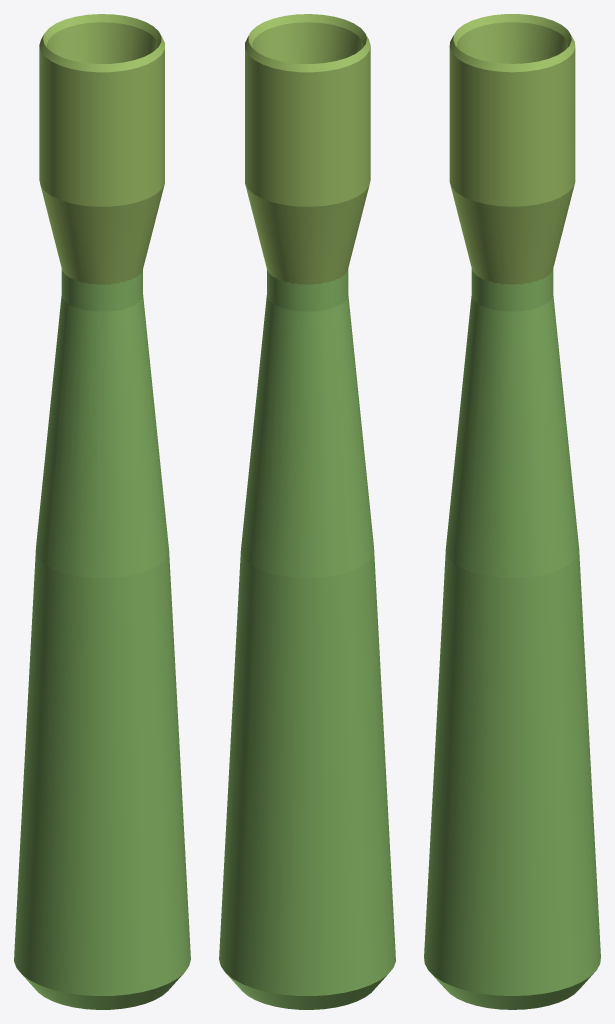
3 views of the same model, side by side, from view 1: azimuth 30°, elevation 25°; view 2: azimuth 150°, elevation 25°; view 3: azimuth 270°, elevation 25° (orthographic).
Parts seen in each view (by area): view 1: body, cup; view 2: body, cup; view 3: body, cup.
Part boxes in pixels (box(x1,y1,x2,y2)): body: box(14, 269, 190, 1009); cup: box(39, 14, 164, 284); body: box(219, 269, 395, 1009); cup: box(245, 14, 370, 284); body: box(424, 269, 600, 1009); cup: box(449, 14, 575, 284).
Bounding box in the file's own units: 0.0238 × 0.14 × 0.0239.
